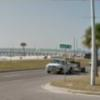cars: (46, 59, 77, 74)
